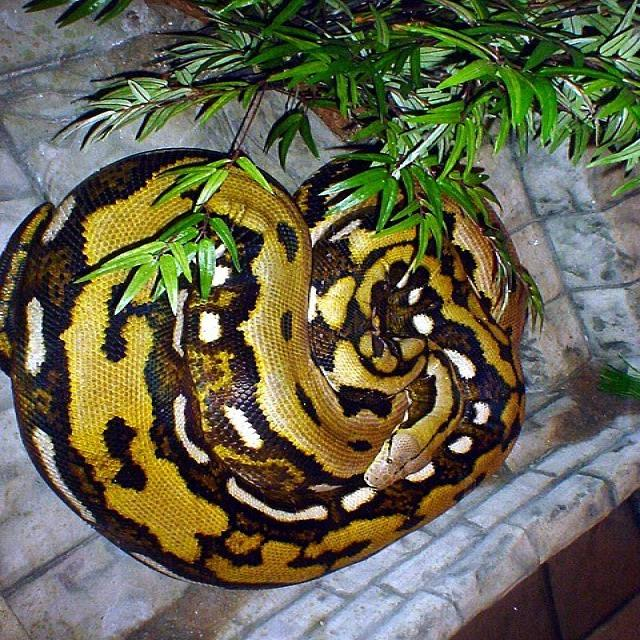Non-Venomous: (328, 350, 490, 493)
